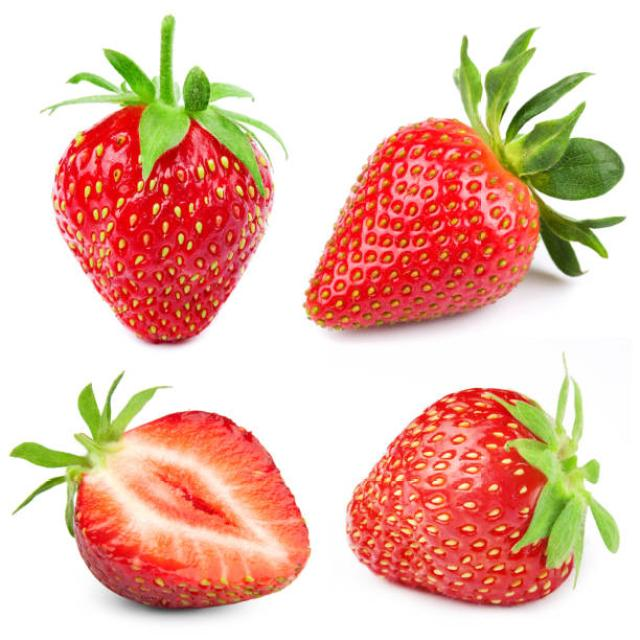Healthy Fruit: (52, 100, 275, 346), (304, 116, 540, 330), (344, 387, 575, 604), (77, 411, 310, 608)
